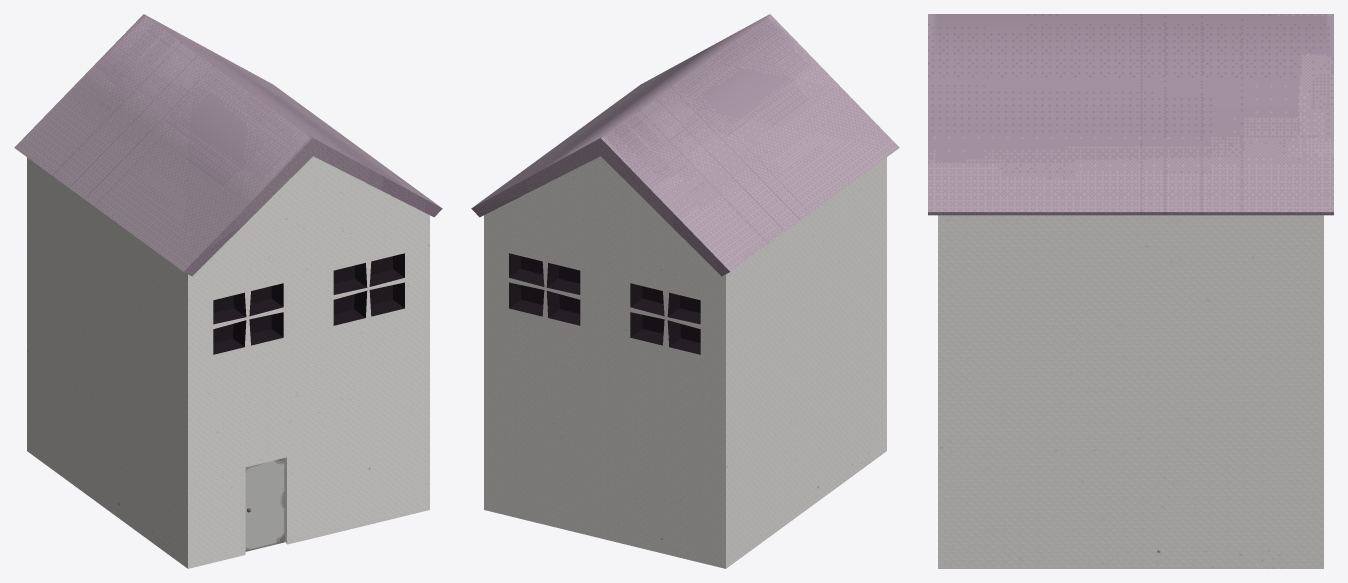
The model's file is HOME_AND_ROOM.fbx.
3 views of the same model, side by side, from view 1: azimuth 30°, elevation 25°; view 2: azimuth 150°, elevation 25°; view 3: azimuth 270°, elevation 25° (orthographic). The views are drawn at different scales.
Parts seen in each view (by area): view 1: House_Outside, door; view 2: House_Outside; view 3: House_Outside.
Part boxes in pixels (bbox=[...]): House_Outside: bbox=[14, 14, 442, 568]; door: bbox=[245, 458, 284, 551]; House_Outside: bbox=[471, 14, 899, 568]; House_Outside: bbox=[928, 14, 1333, 568].
Bounding box in the file's own units: 7.36 × 11 × 8.34.
